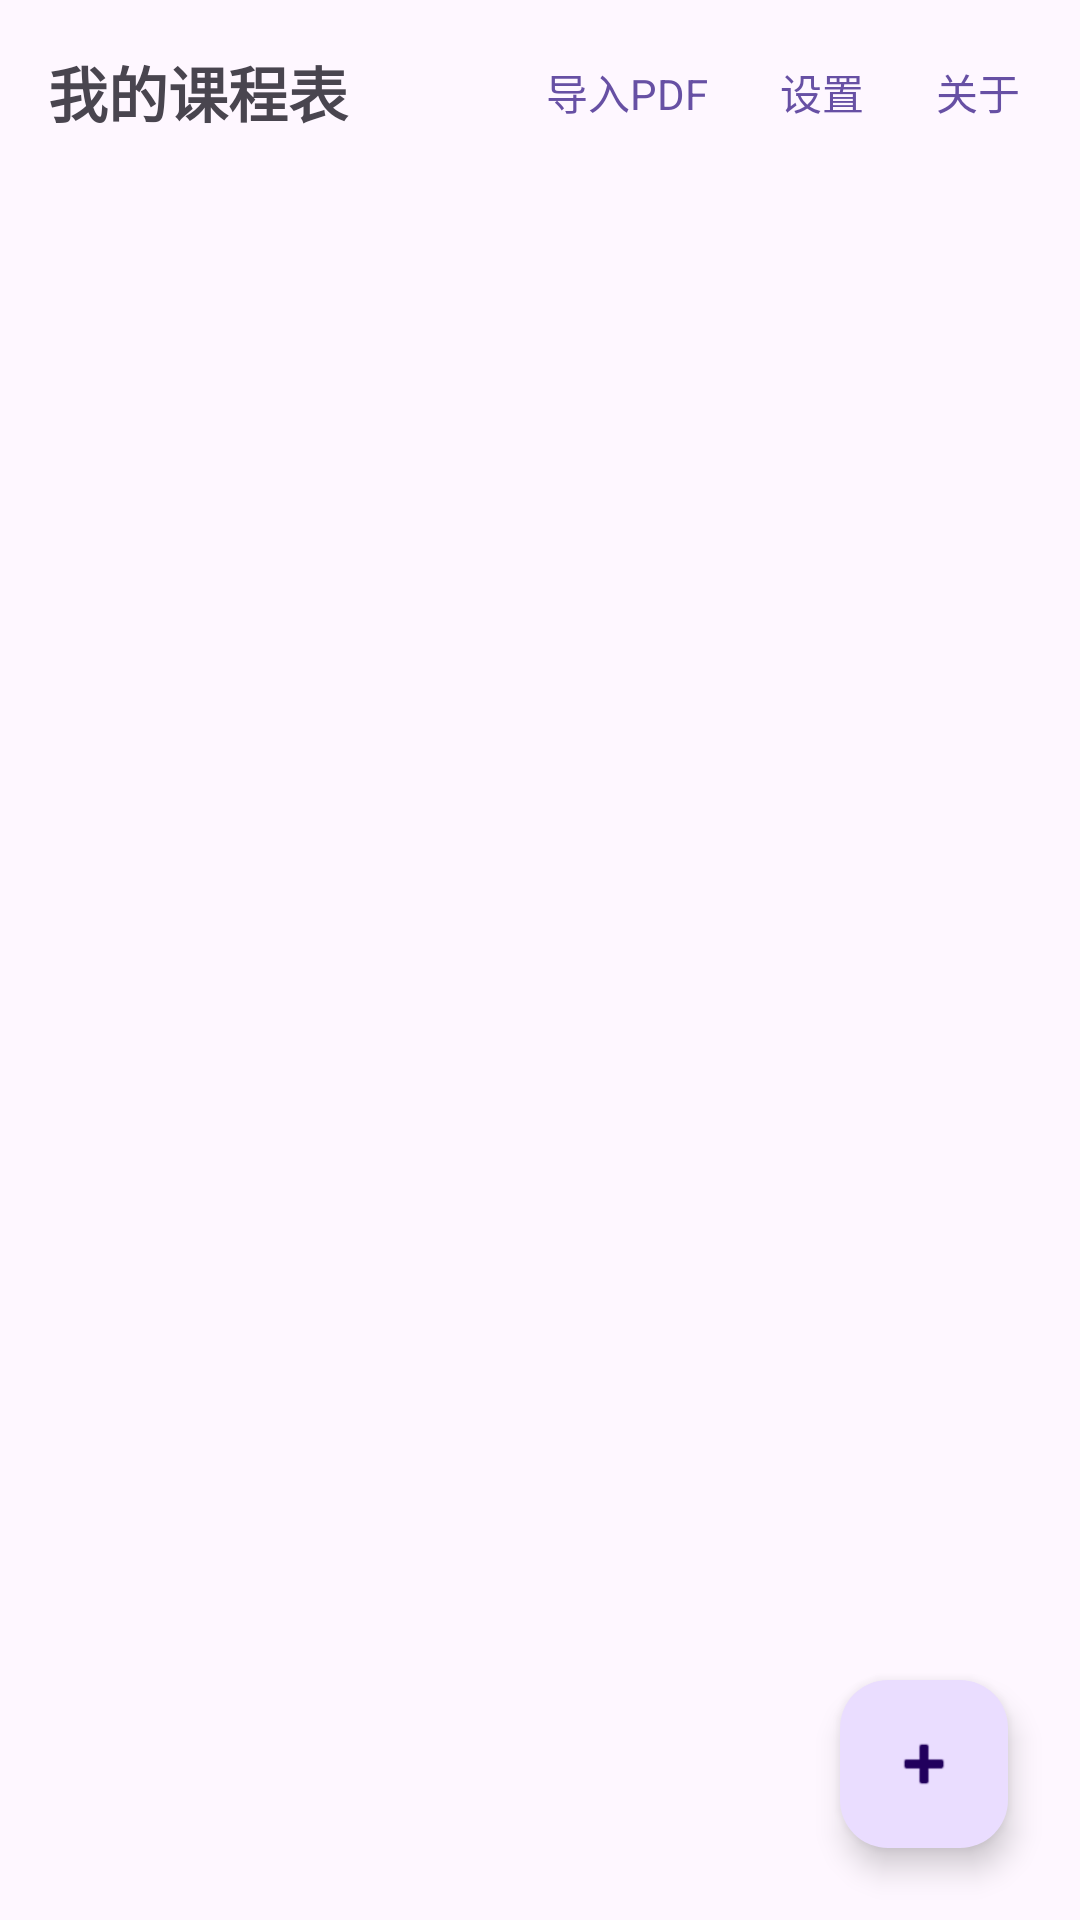

Point at icon controls on the screen. Image size 1080w x 1920h, points as (x,y).
添加课程: (924,1764)
